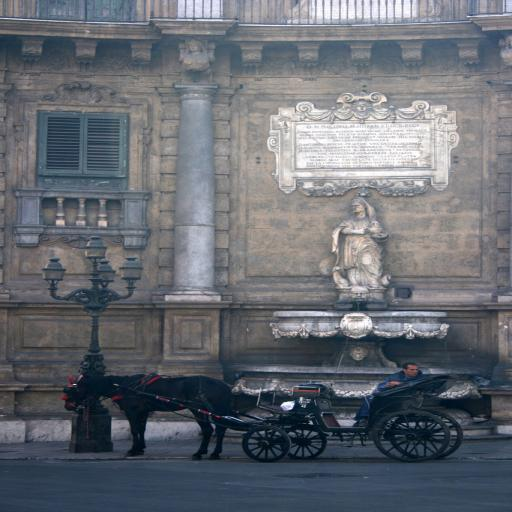horse: (64, 372, 238, 462)
